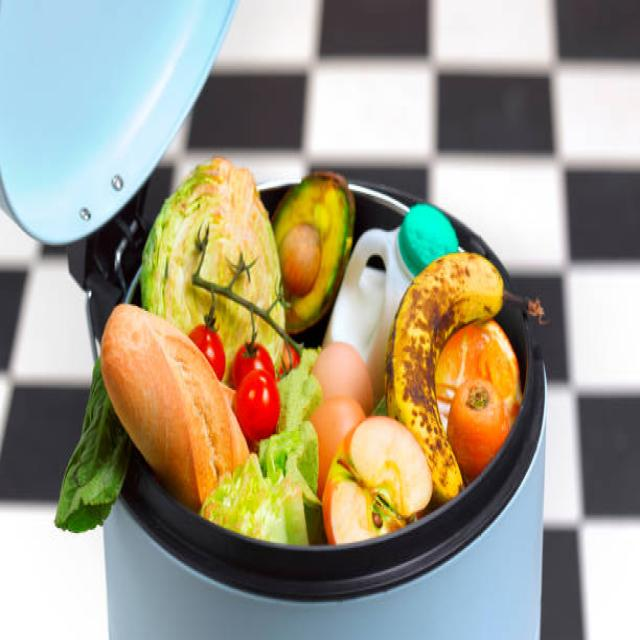trash: (91, 204, 511, 523)
